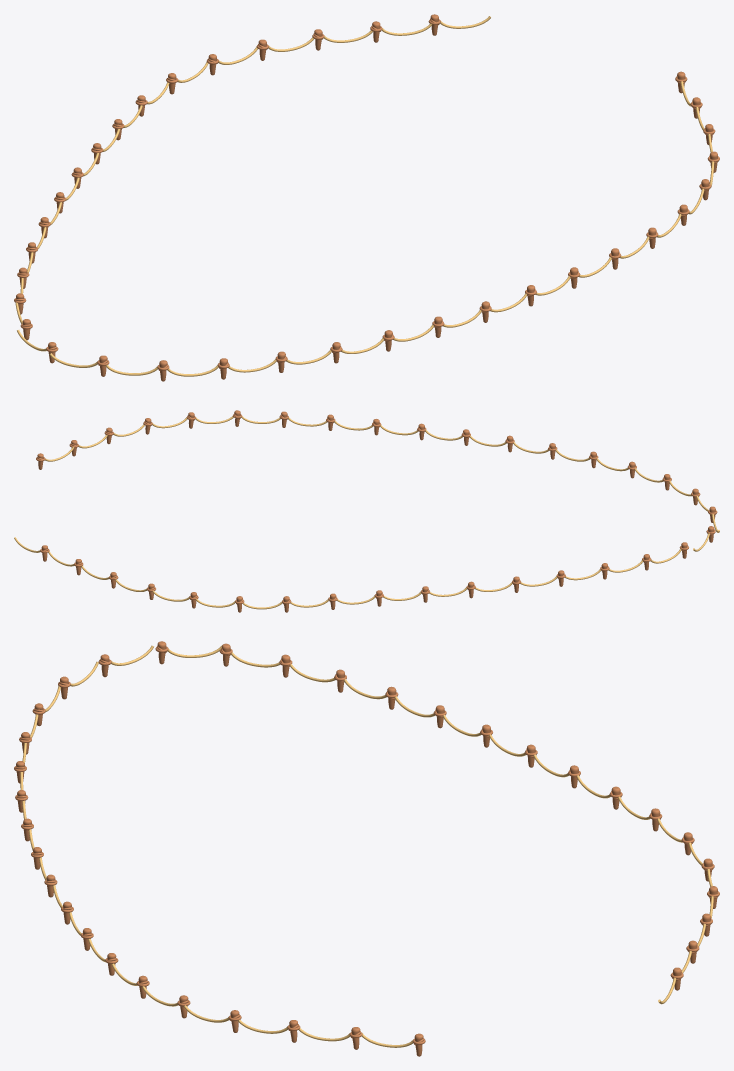
Rendered from enclos_clean.fbx.
The picture shows the model from 3 angles, top to bottom: view 1: azimuth 30°, elevation 25°; view 2: azimuth 150°, elevation 25°; view 3: azimuth 270°, elevation 25°; orthographic projection. The views are drawn at different scales.
Bounding box in the file's own units: 2600 × 96.68 × 1949.
